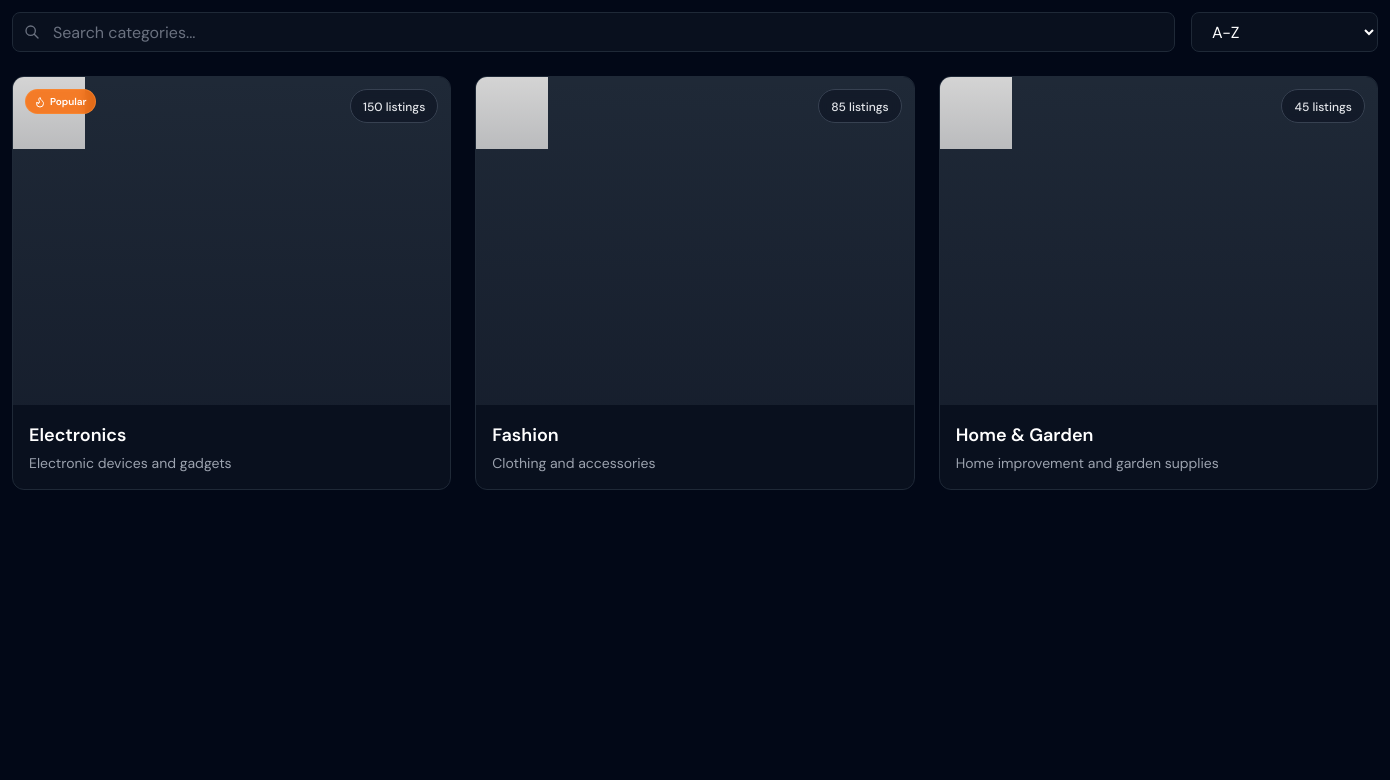
Test case: URL State Management Integration Tests › Edge Cases › should handle special characters in search
In the field: (594, 32) [12, 12, 1175, 52], type "Home & Garden"
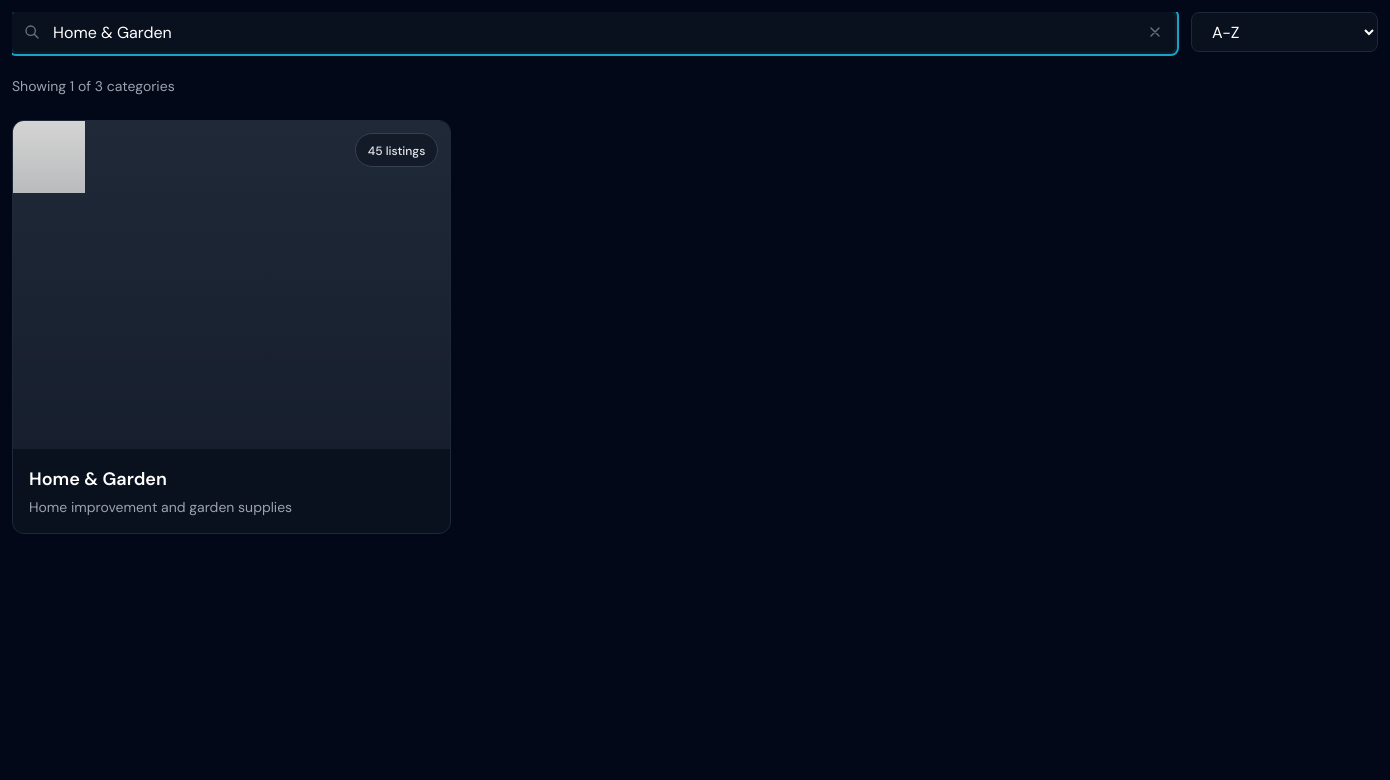
Check: the heading "Home & Garden" is shown, box [29, 467, 167, 491]
Check: the link "Electronics" is gone
